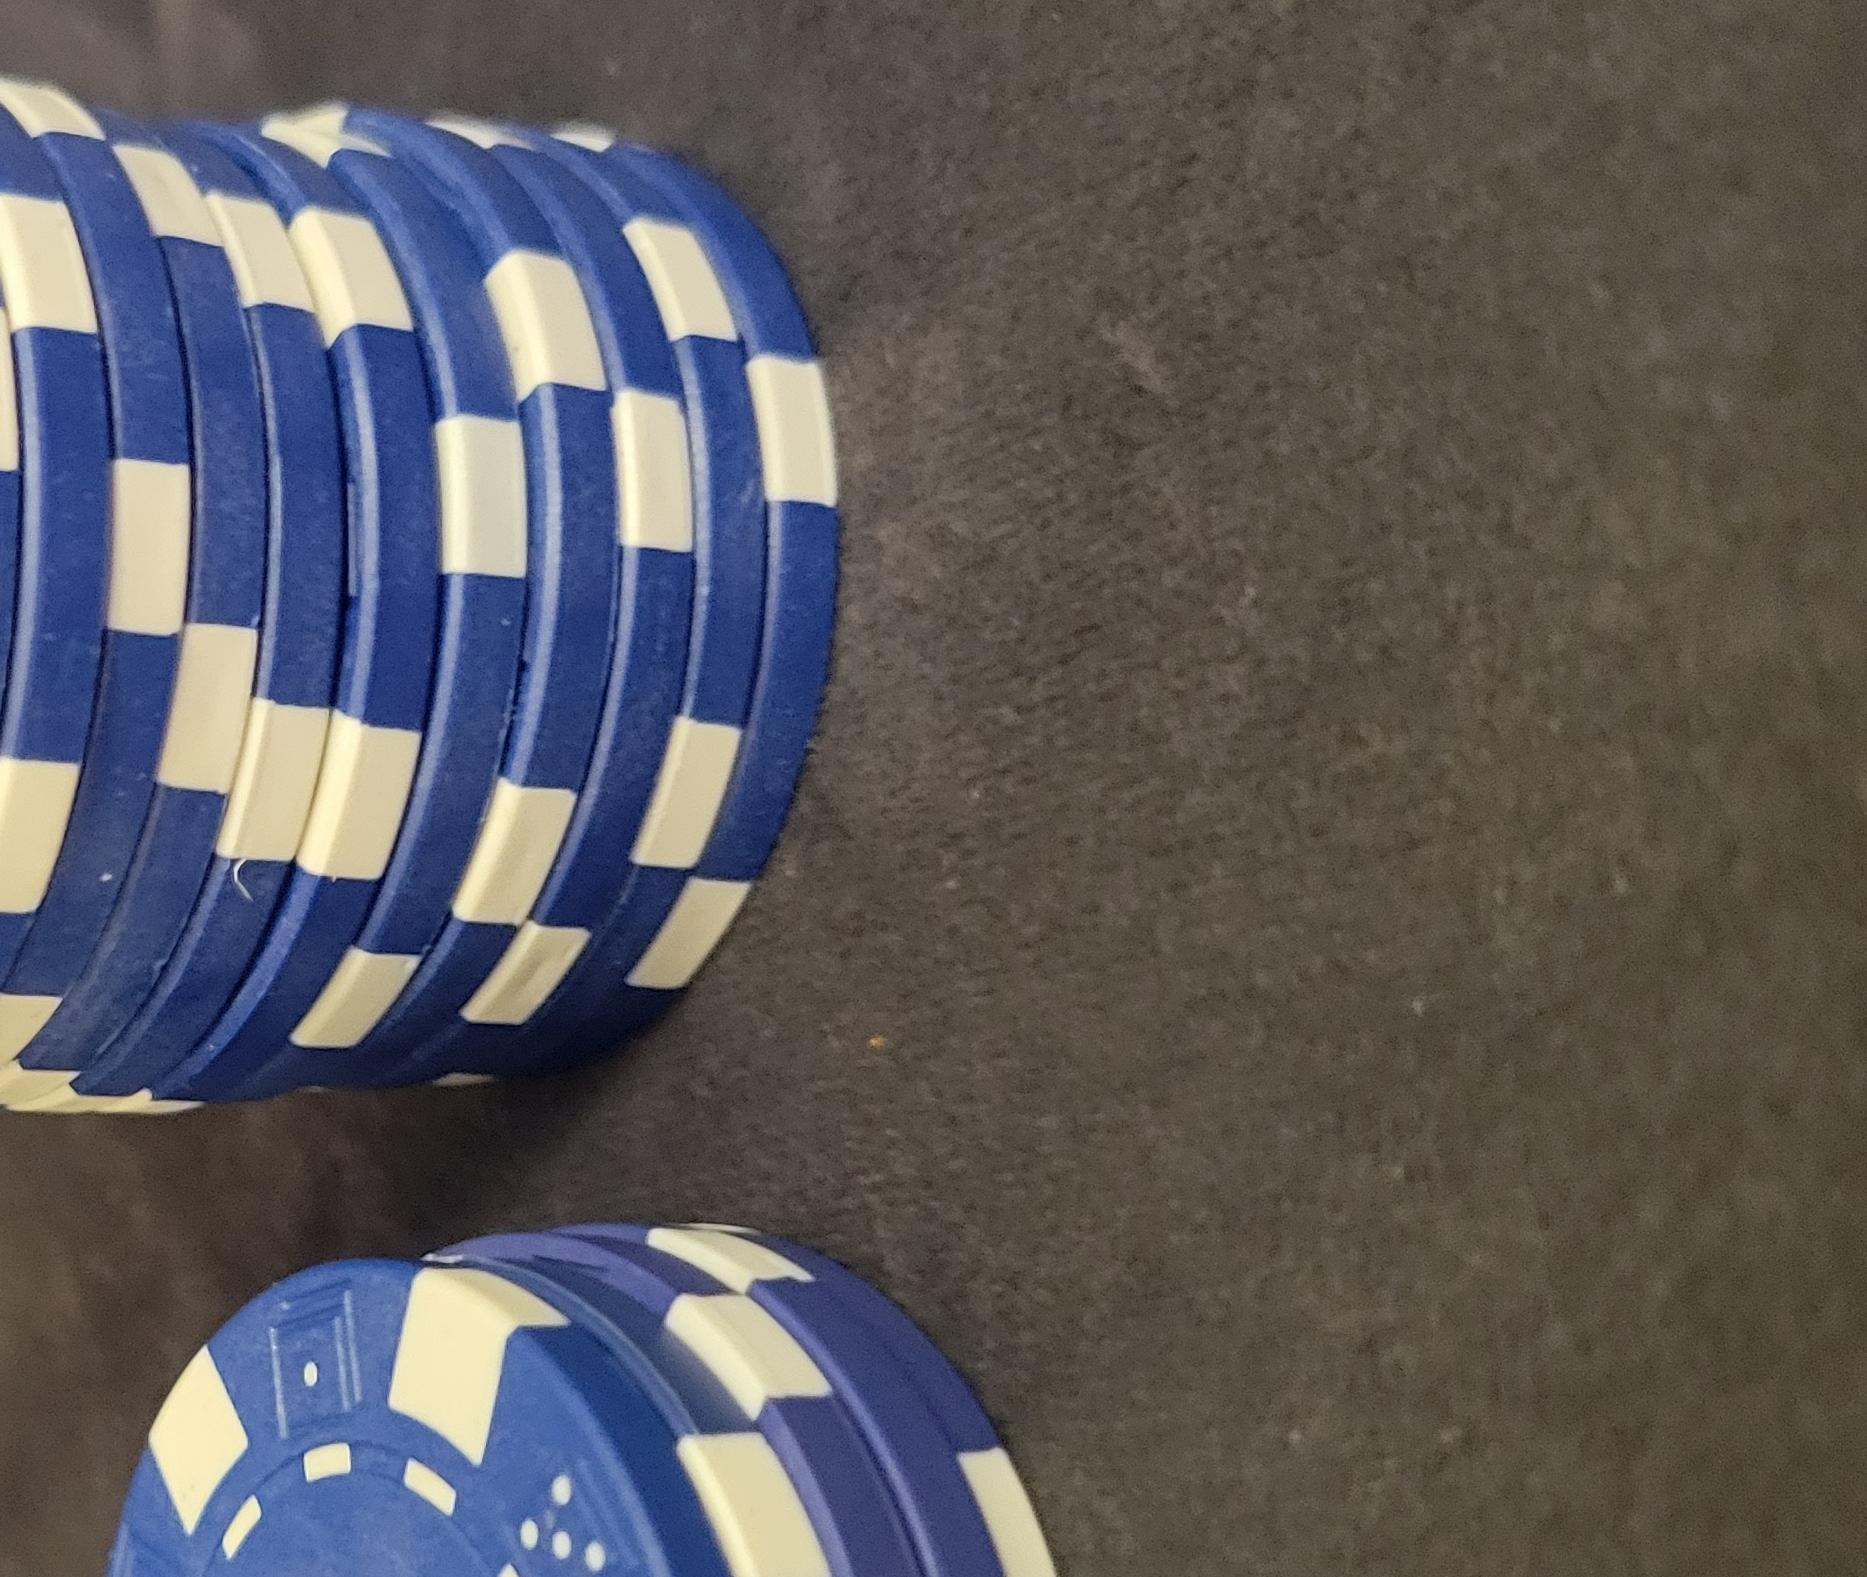Chip: (2, 145, 941, 1577)
